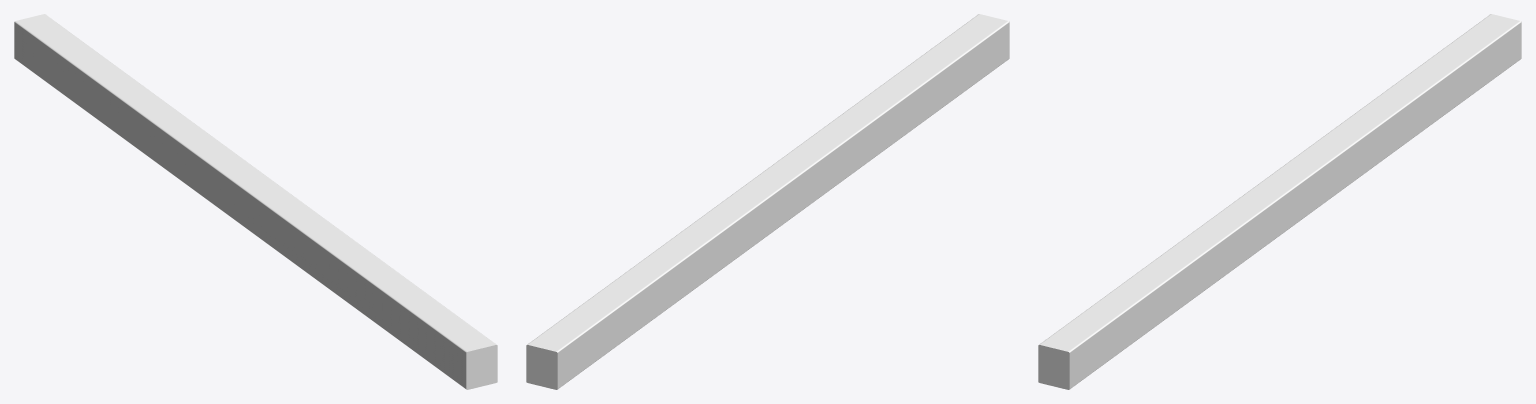
The model's file is Luz_letrero.obj.
The picture shows the model from 3 angles, left to right: view 1: azimuth 30°, elevation 25°; view 2: azimuth 150°, elevation 25°; view 3: azimuth 330°, elevation 25°; orthographic projection.
Parts seen in each view (by area): view 1: Minimal_light_led:Component_1_005; view 2: Minimal_light_led:Component_1_005; view 3: Minimal_light_led:Component_1_005.
Part boxes in pixels (x1,y1,x2,y2): Minimal_light_led:Component_1_005: (14, 14, 497, 389); Minimal_light_led:Component_1_005: (526, 14, 1009, 389); Minimal_light_led:Component_1_005: (1038, 14, 1521, 389).
Size of the model in its own units: 0.1007 by 0.118 by 2.54.
